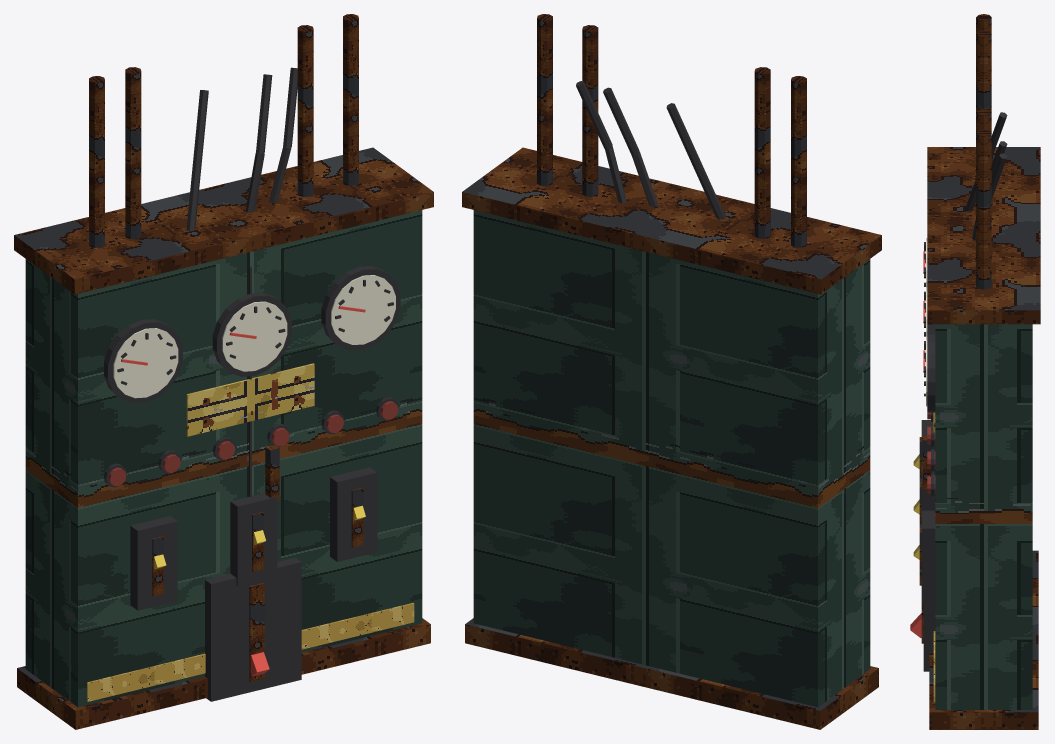
Rendered from FAC_PowerControl.glb.
3 renders of one model, left to right at view 1: azimuth 30°, elevation 25°; view 2: azimuth 150°, elevation 25°; view 3: azimuth 270°, elevation 25°, orthographic. The views are drawn at different scales.
Visible parts, largest first — view 1: Body, Hood, LeverPlate, Base, WarnPlate, Hazard, SwHousing0, SwHousing2, DialFace0, DialFace1, DialFace2, SwHousing1 (+12 smaller); view 2: Body, Hood, Base, Conduit.001, Conduit.003, Conduit, Conduit.002, Cable.001, Cable.003, Cable.005; view 3: Body, Hood, Base, Conduit.003, SwHousing2, Conduit.001, LeverPlate, DialRim2, Handle, Conduit.002, SwHousing1, Cable.005 (+2 smaller).
Boxes of the visible parts, box(x1,y1,x2,y2) form: Body: box(25, 210, 422, 707); Hood: box(14, 147, 433, 294); LeverPlate: box(205, 557, 301, 701); Base: box(17, 618, 430, 729); WarnPlate: box(186, 363, 314, 436); Hazard: box(87, 603, 414, 701); SwHousing0: box(130, 516, 177, 610); SwHousing2: box(330, 467, 377, 561); DialFace0: box(113, 328, 178, 398); DialFace1: box(222, 301, 287, 371); DialFace2: box(331, 275, 395, 344); SwHousing1: box(230, 493, 277, 586); Body: box(473, 210, 870, 707); Hood: box(462, 147, 881, 294); Base: box(465, 618, 878, 729); Conduit.001: box(754, 67, 770, 238); Conduit.003: box(537, 14, 552, 185); Conduit: box(791, 76, 806, 247); Conduit.002: box(582, 25, 598, 196); Cable.001: box(666, 103, 702, 171); Cable.003: box(603, 87, 639, 155); Cable.005: box(576, 81, 612, 149); Body: box(935, 324, 1032, 709); Hood: box(927, 147, 1040, 324); Base: box(929, 550, 1038, 729); Conduit.003: box(976, 129, 991, 289); SwHousing2: box(921, 510, 935, 602); Conduit.001: box(976, 30, 991, 111); LeverPlate: box(923, 603, 935, 671); DialRim2: box(927, 331, 935, 412); Handle: box(922, 436, 932, 489); Conduit.002: box(976, 109, 991, 132); SwHousing1: box(921, 465, 935, 510); Cable.005: box(991, 153, 1007, 198).
Bounding box in the file's own units: 1.98 × 3.26 × 0.6668.
14 materials, 4 textured.
